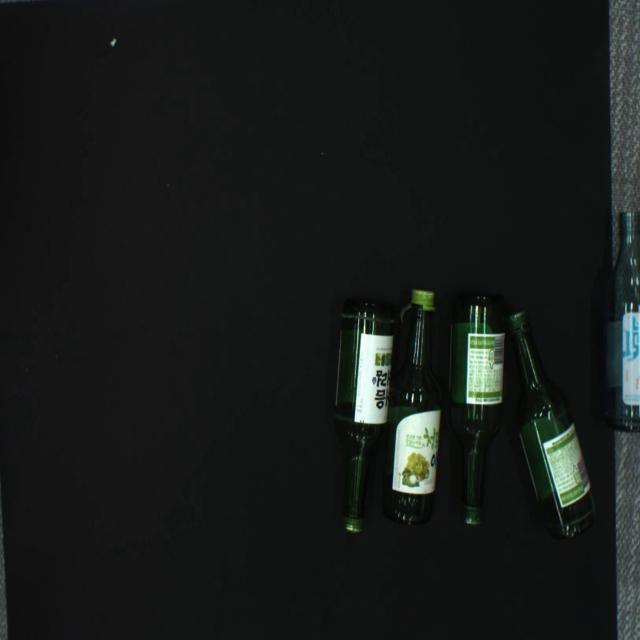soju-bottle: (507, 311, 596, 540), (380, 289, 442, 526), (334, 298, 395, 532), (447, 294, 505, 526), (601, 211, 640, 433)
